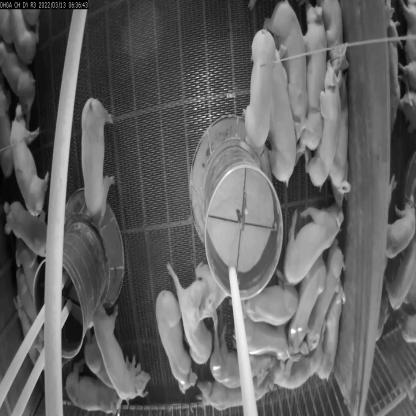Pig: (288, 11, 330, 149), (3, 110, 58, 214), (258, 36, 295, 183), (10, 193, 68, 277), (280, 196, 343, 272), (95, 313, 150, 394), (271, 0, 305, 129), (150, 290, 192, 391), (81, 94, 113, 214), (242, 31, 274, 148), (308, 244, 342, 350), (198, 344, 264, 392), (314, 53, 339, 179), (58, 373, 126, 415), (0, 44, 41, 111), (173, 278, 205, 363), (290, 261, 321, 346), (229, 324, 291, 366), (193, 252, 230, 316), (319, 294, 343, 380), (200, 382, 262, 415), (247, 286, 301, 320), (276, 359, 310, 389)
